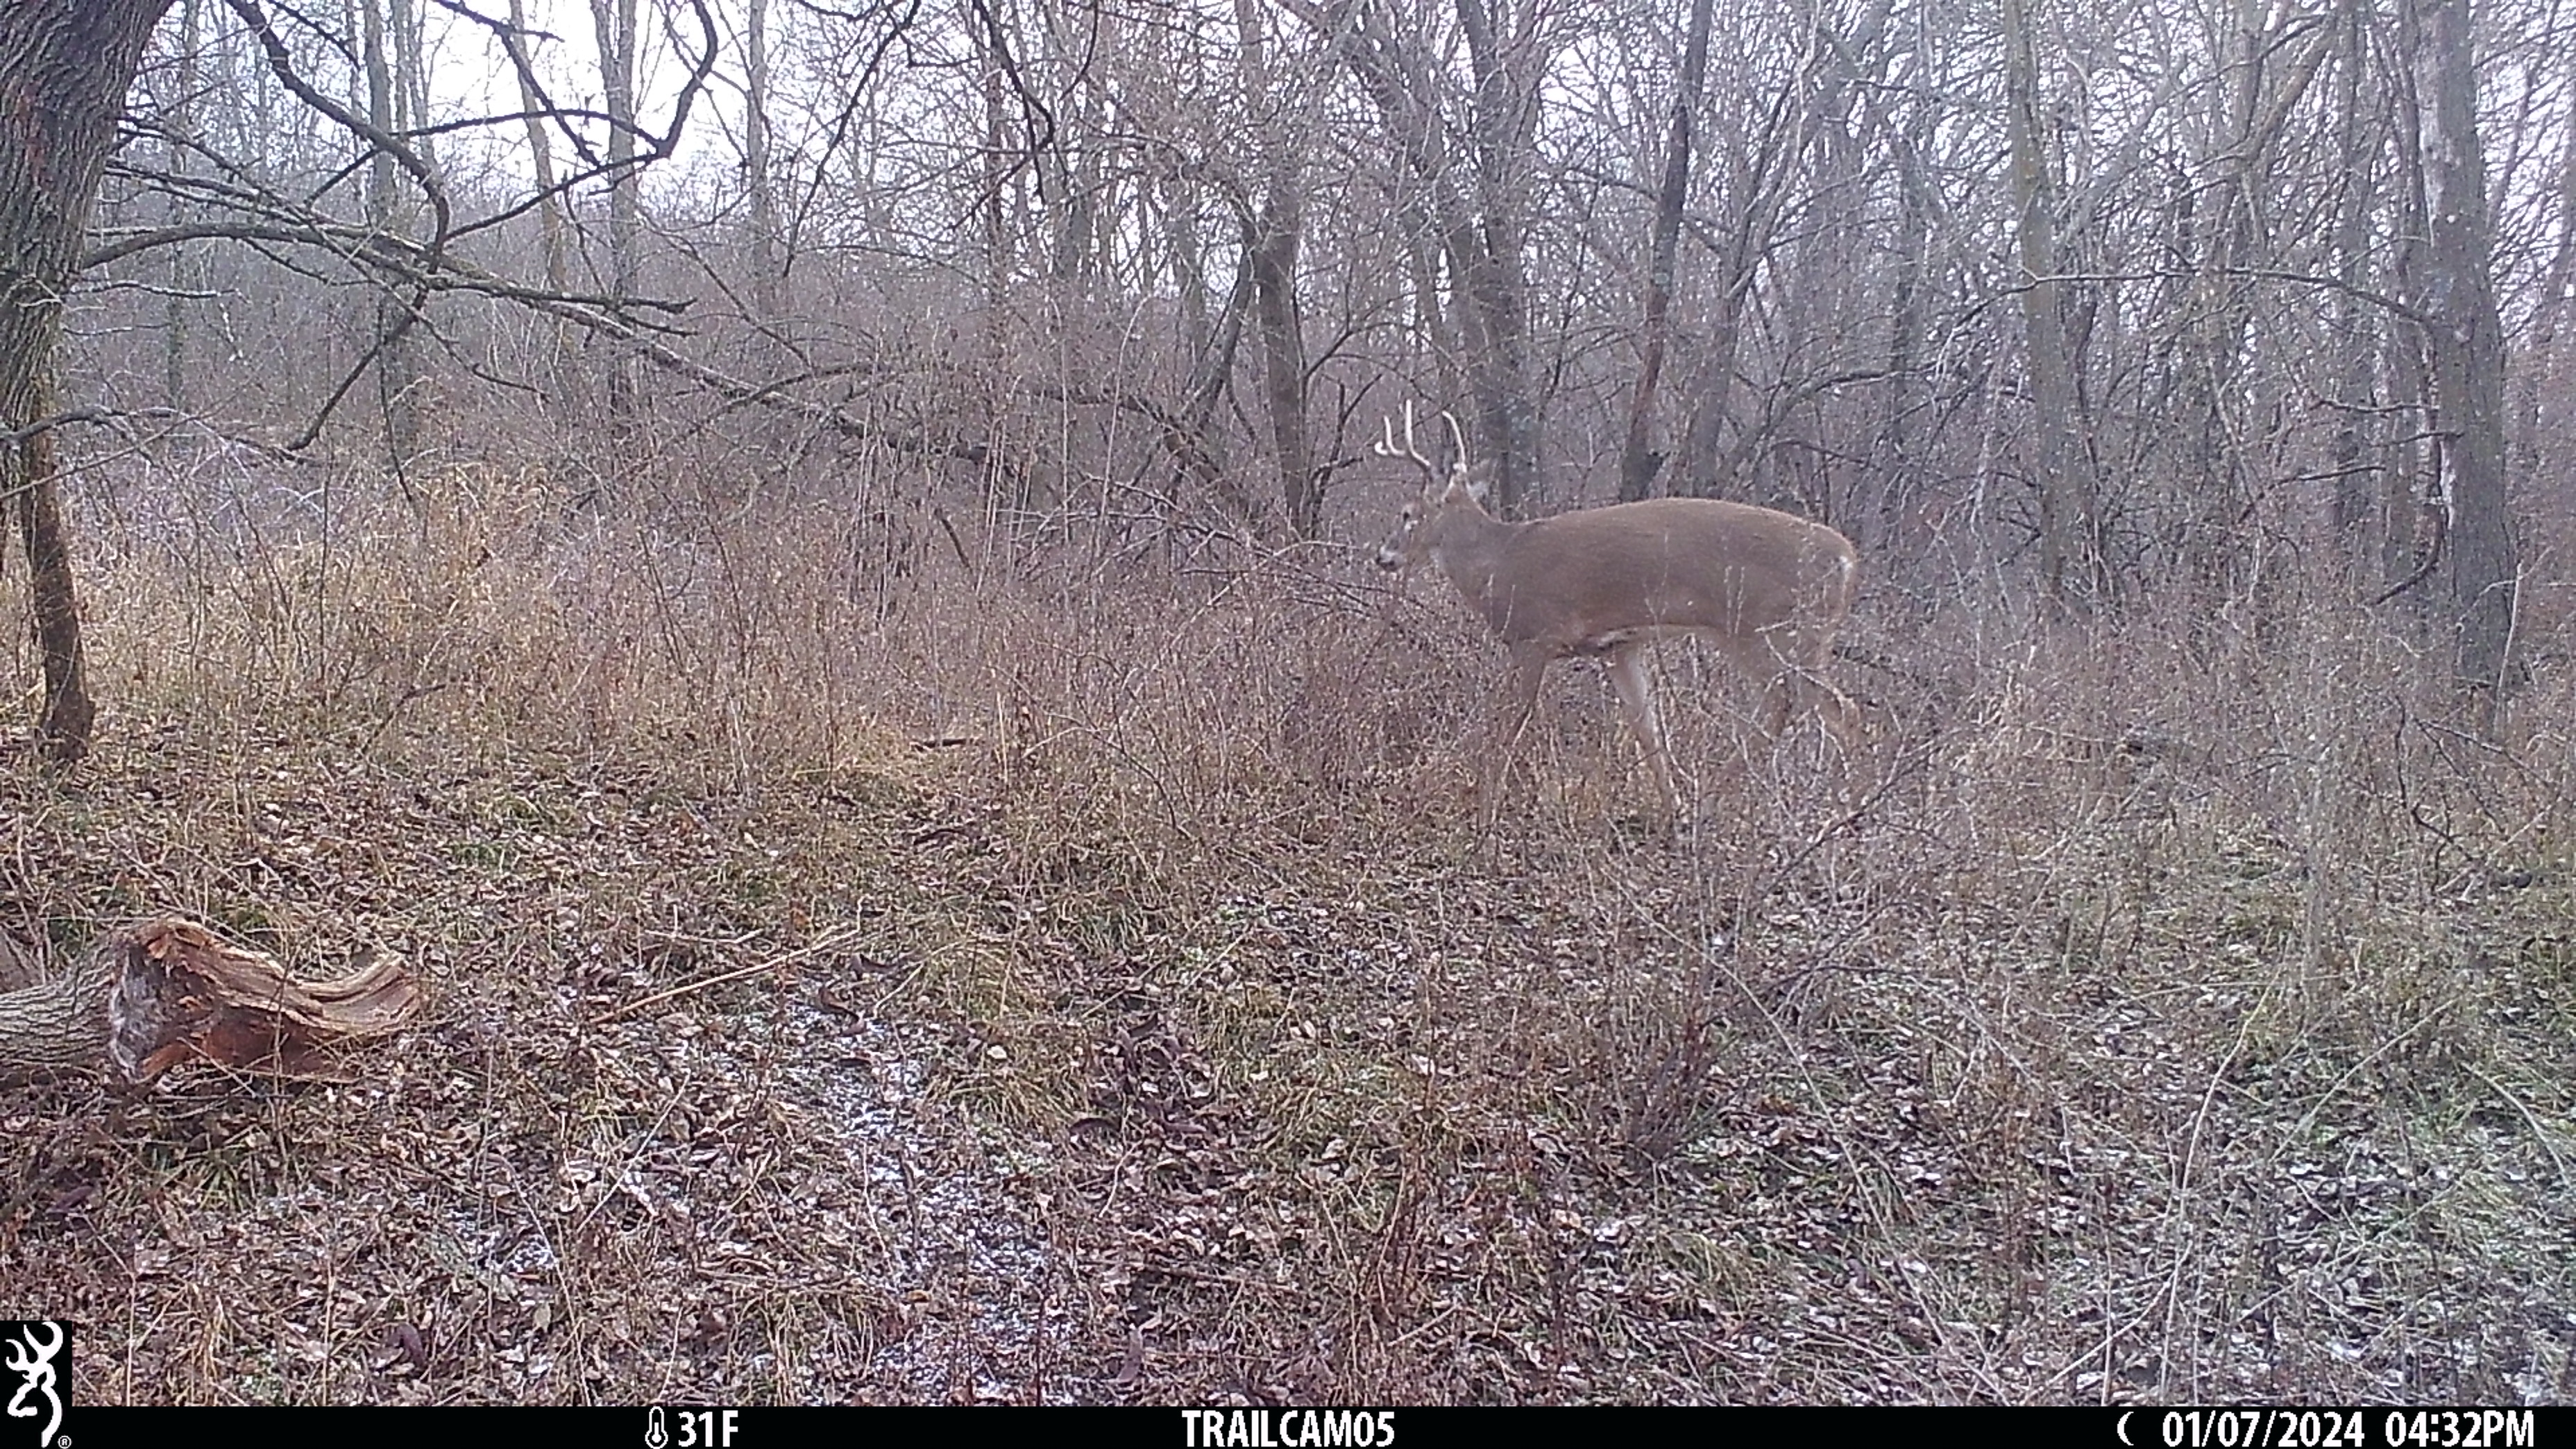DeerBuck: (1368, 397, 1868, 808)
DeerBuckHead: (1368, 397, 1491, 573)
